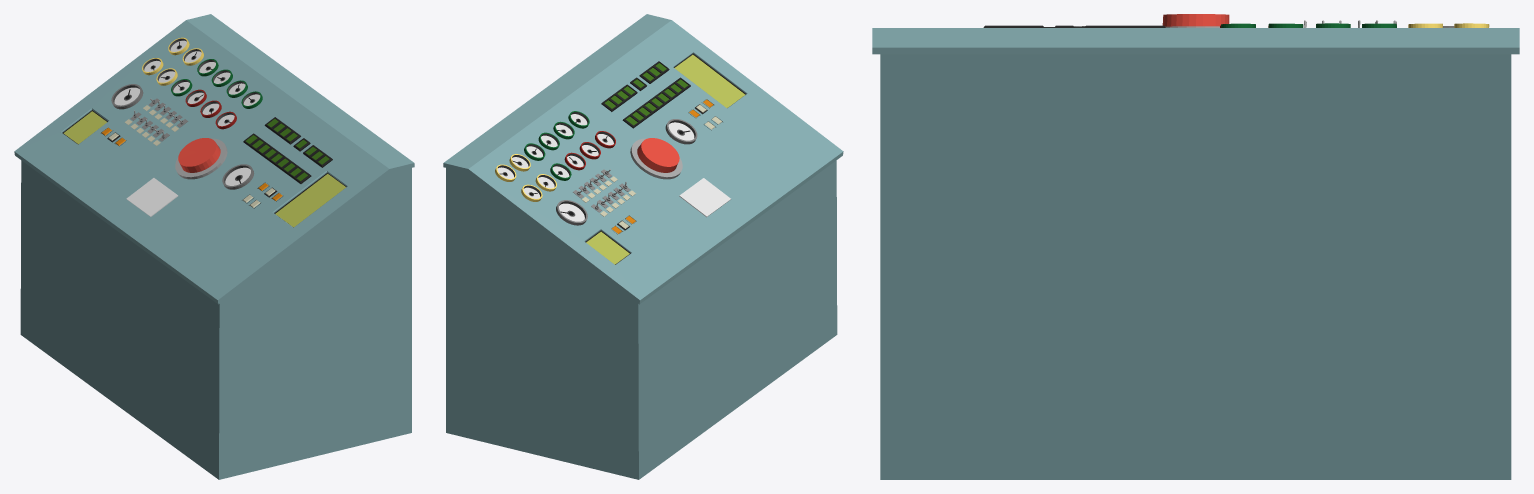
The model's file is control_desk.fbx.
3 views of the same model, side by side, from view 1: azimuth 30°, elevation 25°; view 2: azimuth 150°, elevation 25°; view 3: azimuth 270°, elevation 25° (orthographic). The views are drawn at different scales.
Visible parts, largest first — view 1: Cube.005; view 2: Cube.005; view 3: Cube.005.
Part boxes in pixels (bbox=[...]): Cube.005: bbox=[14, 14, 414, 479]; Cube.005: bbox=[443, 14, 843, 479]; Cube.005: bbox=[872, 14, 1519, 479].
Size of the model in its own units: 771 by 1018 by 1381.
